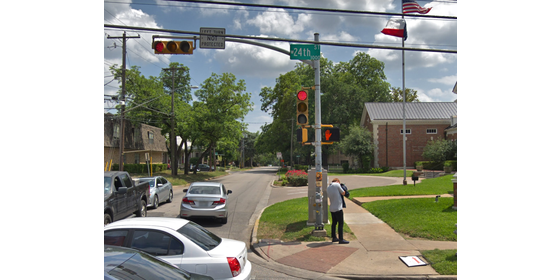left turn not protected sign: (198, 25, 226, 52)
street name sign: (287, 41, 322, 63)
